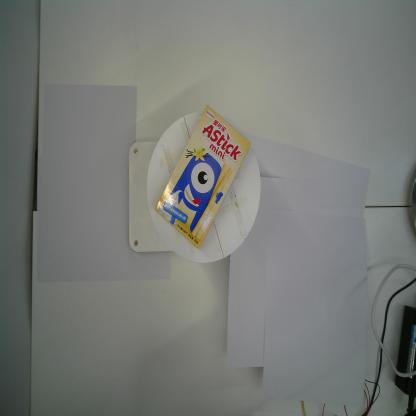Dessert: (154, 104, 252, 251)
